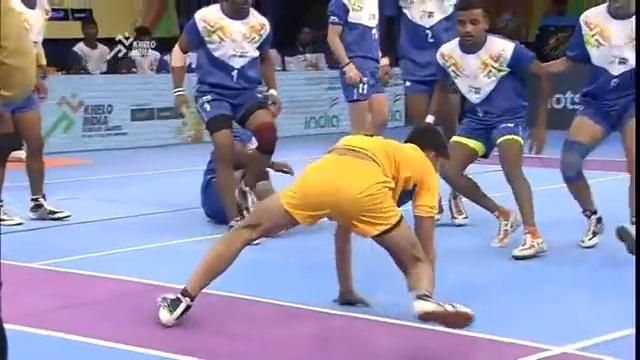Player: (428, 1, 550, 259), (169, 0, 289, 231), (535, 0, 637, 255), (377, 0, 460, 221), (0, 0, 72, 226), (325, 0, 391, 136)
Raider: (155, 123, 474, 329)
referee: (269, 0, 339, 71)
